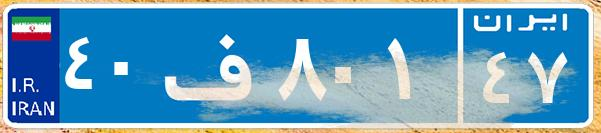0: (330, 28, 385, 110), (110, 28, 158, 105)
1: (385, 28, 445, 110)
4: (57, 26, 110, 107), (475, 38, 525, 113)
7: (525, 38, 570, 115)
8: (273, 28, 330, 110)
ف: (158, 15, 273, 115)
